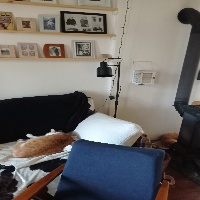asleep: (12, 128, 73, 158)
